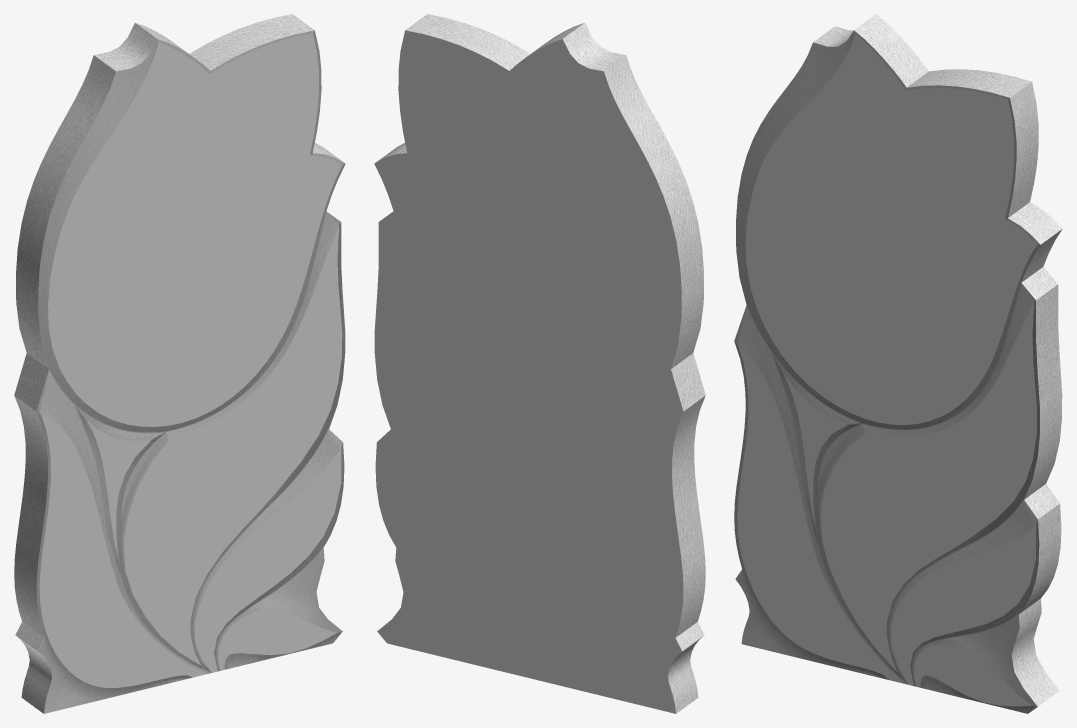
The model's file is cnddced81be0_tkf.glb.
3 renders of one model, left to right at view 1: azimuth 30°, elevation 25°; view 2: azimuth 150°, elevation 25°; view 3: azimuth 330°, elevation 25°, orthographic.
Parts seen in each view (by area): view 1: Pam-d03-180, Pam-d03-180_2_notexture; view 2: Pam-d03-180, Pam-d03-180_2_notexture; view 3: Pam-d03-180, Pam-d03-180_2_notexture.
Boxes of the visible parts, <box> form: Pam-d03-180: <box>39,33,342,687</box>; Pam-d03-180_2_notexture: <box>14,14,345,713</box>; Pam-d03-180: <box>374,30,683,713</box>; Pam-d03-180_2_notexture: <box>376,14,705,713</box>; Pam-d03-180: <box>737,34,1037,706</box>; Pam-d03-180_2_notexture: <box>734,14,1062,713</box>.
Size of the model in its own units: 0.4 by 0.8 by 0.05.
1 material, 1 textured.
